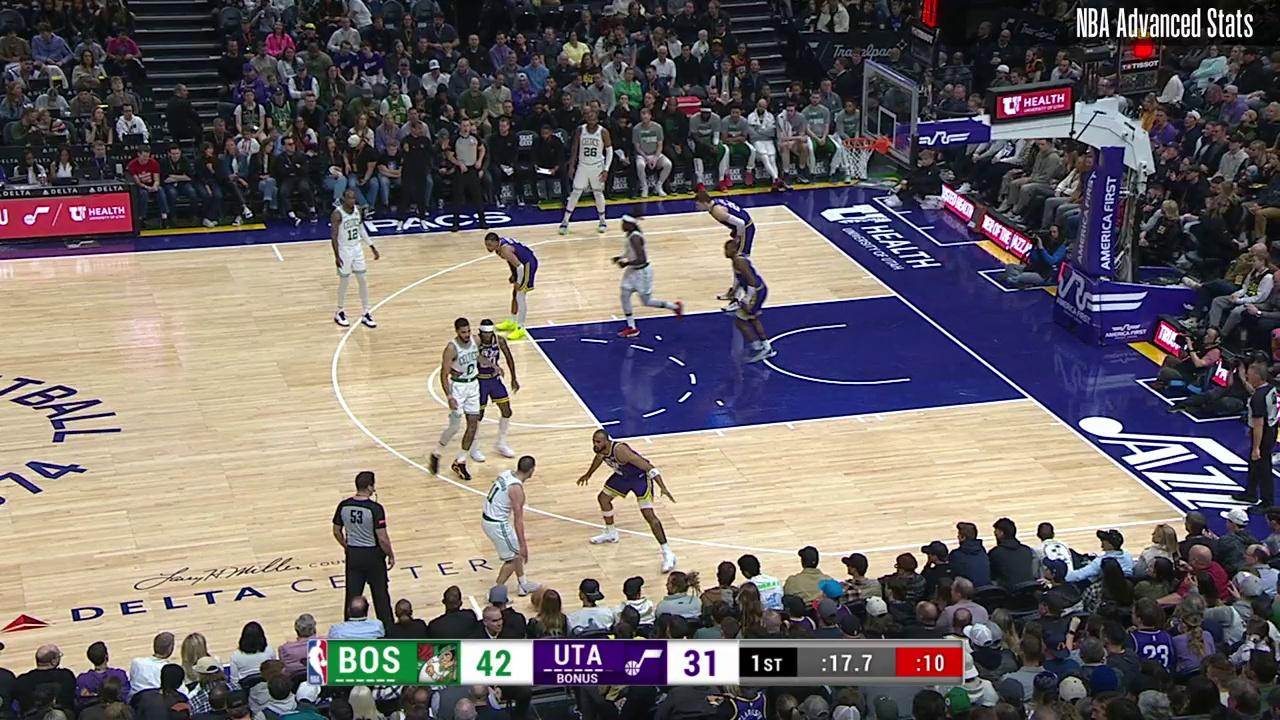3_dx: (1181, 512, 1192, 523)
3_sx: (797, 217, 807, 225)
b_sx: (779, 202, 788, 211)
free_adx: (606, 436, 616, 444)
free_bdx: (1024, 394, 1036, 405)
free_bsx: (891, 290, 901, 299)
mid_dx: (467, 591, 476, 600)
mid_sx: (277, 257, 287, 265)
referee: (332, 471, 400, 631), (1238, 355, 1279, 506), (448, 117, 488, 231)
team: (480, 453, 544, 598), (611, 213, 685, 338), (427, 315, 481, 484), (555, 111, 615, 236), (330, 187, 380, 331)
team1: (576, 430, 683, 572), (466, 321, 520, 459), (695, 191, 756, 312), (723, 240, 777, 366), (486, 232, 538, 340)
timer: (812, 644, 883, 680)
